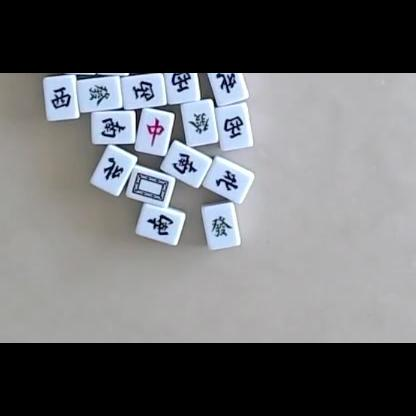2z: (147, 213, 174, 236), (171, 152, 197, 175), (101, 117, 126, 139)
3z: (131, 80, 156, 102), (223, 115, 244, 139), (51, 86, 71, 110), (171, 73, 191, 93)
4z: (215, 169, 239, 192), (103, 157, 124, 180), (214, 73, 236, 93)
5z: (132, 172, 169, 202)
6z: (88, 84, 110, 107), (188, 112, 210, 135), (211, 215, 232, 238)
7z: (147, 117, 165, 147)
